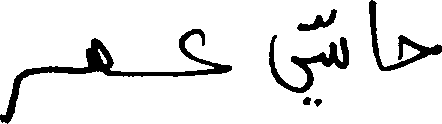ا: (369, 0, 382, 71)
ح: (396, 33, 441, 69)
ر: (0, 66, 27, 122)
س: (319, 34, 348, 73)
ع: (178, 27, 234, 77)
م: (84, 35, 113, 75)
ي: (266, 30, 321, 108)
